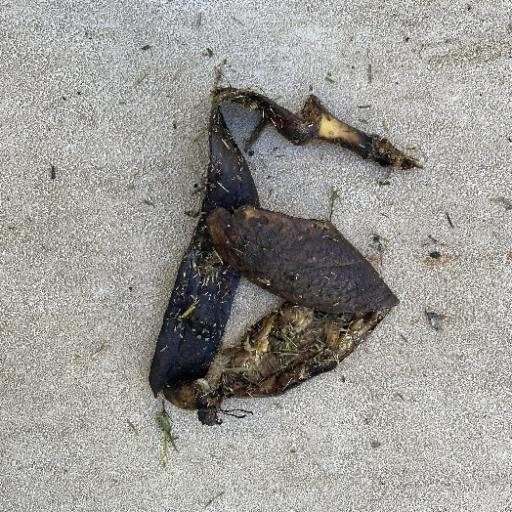Waste: (147, 85, 421, 431)
